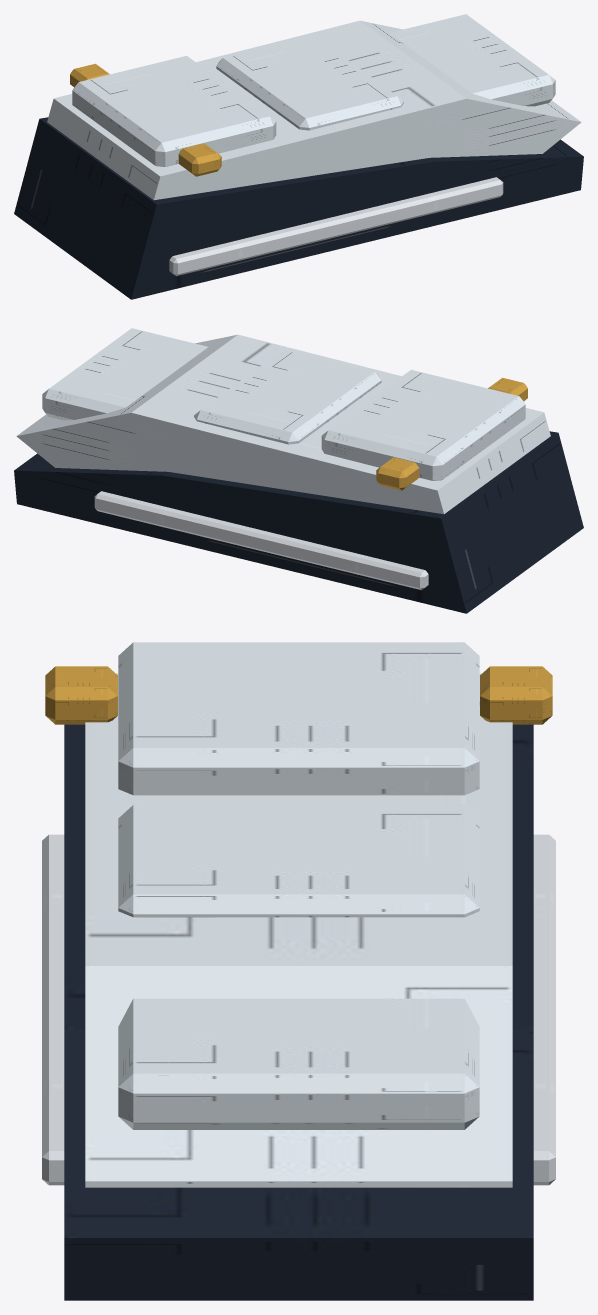
The model's file is sneakers.glb.
3 views of the same model, one above another, from view 1: azimuth 30°, elevation 25°; view 2: azimuth 150°, elevation 25°; view 3: azimuth 270°, elevation 25° (orthographic). The views are drawn at different scales.
Parts seen in each view (by area): view 1: foot_L, foot_R; view 2: foot_L, foot_R; view 3: foot_L, foot_R.
Part boxes in pixels (box(x1,y1,x2,y2)): foot_L: box(14, 14, 583, 299); foot_R: box(178, 143, 221, 176); foot_L: box(14, 328, 583, 613); foot_R: box(488, 377, 527, 400); foot_L: box(42, 642, 555, 1300); foot_R: box(45, 666, 117, 724).
Size of the model in its own units: 0.305 by 0.085 by 0.149.
Materials: 4 (4 with a texture image).
